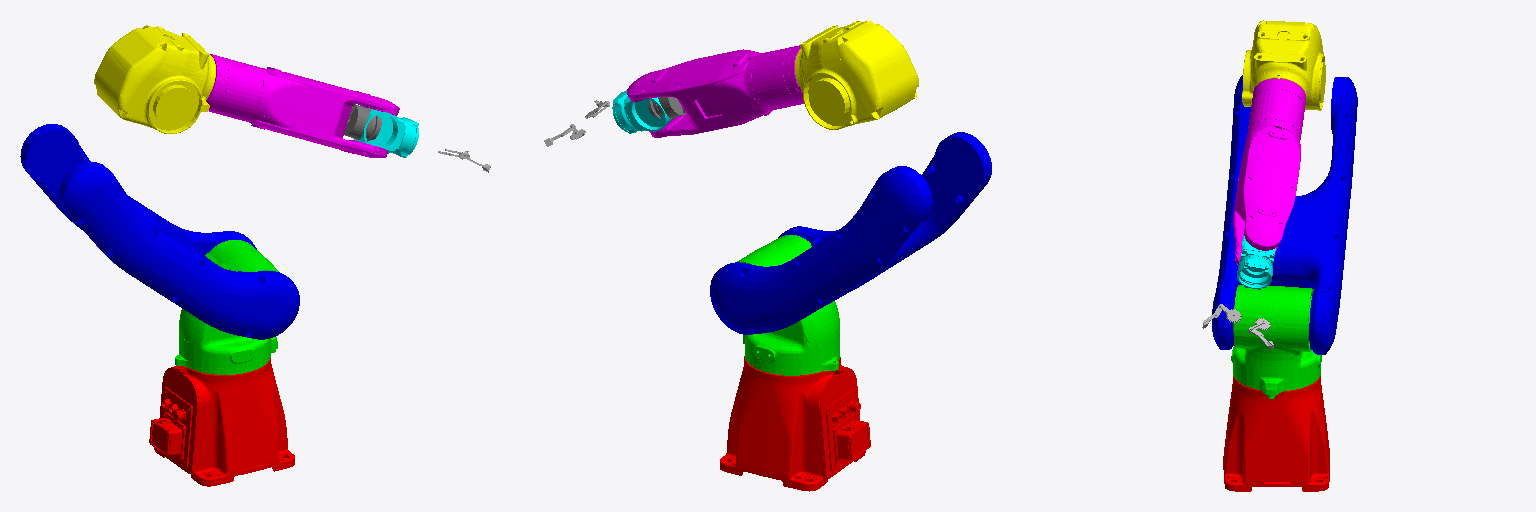
The robot description file, URDF, robot "gp7_robot":
<?xml version="1.0" encoding="utf-8"?>
<!-- This URDF was automatically created by SolidWorks to URDF Exporter! Originally created by [author] ([email redacted]) 
     Commit Version: 1.6.0-1-g15f4949  Build Version: 1.6.7594.29634
     For more information, please see http://wiki.ros.org/sw_urdf_exporter -->
<robot
  name="gp7_robot">
  <link
    name="base_link">
    <inertial>
      <origin
        xyz="-0.0061643 6.0941E-07 0.083158"
        rpy="0 0 0" />
      <mass
        value="5.2154" />
      <inertia
        ixx="0.026026"
        ixy="-2.5924E-05"
        ixz="0.00013984"
        iyy="0.025295"
        iyz="-4.7677E-05"
        izz="0.021721" />
    </inertial>
    <visual>
      <origin
        xyz="0 0 0"
        rpy="0 0 0" />
      <geometry>
        <mesh
          filename="package://gp7_robot/meshes/base_link.STL" />
      </geometry>
      <material
        name="">
        <color
          rgba="1 0 0 1" />
      </material>
    </visual>
    <collision>
      <origin
        xyz="0 0 0"
        rpy="0 0 0" />
      <geometry>
        <mesh
          filename="package://gp7_robot/meshes/base_link.STL" />
      </geometry>
    </collision>
  </link>
  <link
    name="link1">
    <inertial>
      <origin
        xyz="0.015549 -0.0019593 0.095449"
        rpy="0 0 0" />
      <mass
        value="2.9447" />
      <inertia
        ixx="0.011192"
        ixy="9.0245E-05"
        ixz="-0.0021643"
        iyy="0.011936"
        iyz="0.00025509"
        izz="0.0088687" />
    </inertial>
    <visual>
      <origin
        xyz="0 0 0"
        rpy="0 0 0" />
      <geometry>
        <mesh
          filename="package://gp7_robot/meshes/link1.STL" />
      </geometry>
      <material
        name="">
        <color
          rgba="0 1 0 1" />
      </material>
    </visual>
    <collision>
      <origin
        xyz="0 0 0"
        rpy="0 0 0" />
      <geometry>
        <mesh
          filename="package://gp7_robot/meshes/link1.STL" />
      </geometry>
    </collision>
  </link>
  <joint
    name="joint1"
    type="revolute">
    <origin
      xyz="-0.000595342695521883 0 0.1829"
      rpy="0 0 0" />
    <parent
      link="base_link" />
    <child
      link="link1" />
    <axis
      xyz="0 0 -1" />
    <limit
      lower="0"
      upper="0"
      effort="0"
      velocity="0" />
  </joint>
  <link
    name="link2">
    <inertial>
      <origin
        xyz="0.098772 0.17038 -0.071798"
        rpy="0 0 0" />
      <mass
        value="6.2405" />
      <inertia
        ixx="0.11256"
        ixy="-0.034136"
        ixz="-0.00014143"
        iyy="0.041497"
        iyz="-0.0004635"
        izz="0.11052" />
    </inertial>
    <visual>
      <origin
        xyz="0 0 0"
        rpy="0 0 0" />
      <geometry>
        <mesh
          filename="package://gp7_robot/meshes/link2.STL" />
      </geometry>
      <material
        name="">
        <color
          rgba="0 0 1 1" />
      </material>
    </visual>
    <collision>
      <origin
        xyz="0 0 0"
        rpy="0 0 0" />
      <geometry>
        <mesh
          filename="package://gp7_robot/meshes/link2.STL" />
      </geometry>
    </collision>
  </link>
  <joint
    name="joint2"
    type="revolute">
    <origin
      xyz="0.0481152180218847 0.0668500247537757 0.135500000000094"
      rpy="1.57079632679473 0 3.0248336337098" />
    <parent
      link="link1" />
    <child
      link="link2" />
    <axis
      xyz="0 0 -1" />
    <limit
      lower="0"
      upper="0"
      effort="0"
      velocity="0" />
  </joint>
  <link
    name="link3">
    <inertial>
      <origin
        xyz="-0.024876 0.006034 -0.072854"
        rpy="0 0 0" />
      <mass
        value="2.8492" />
      <inertia
        ixx="0.0078502"
        ixy="-0.0010799"
        ixz="4.7231E-05"
        iyy="0.0073158"
        iyz="-1.0093E-05"
        izz="0.0077915" />
    </inertial>
    <visual>
      <origin
        xyz="0 0 0"
        rpy="0 0 0" />
      <geometry>
        <mesh
          filename="package://gp7_robot/meshes/link3.STL" />
      </geometry>
      <material
        name="">
        <color
          rgba="1 1 0 1" />
      </material>
    </visual>
    <collision>
      <origin
        xyz="0 0 0"
        rpy="0 0 0" />
      <geometry>
        <mesh
          filename="package://gp7_robot/meshes/link3.STL" />
      </geometry>
    </collision>
  </link>
  <joint
    name="joint3"
    type="revolute">
    <origin
      xyz="0.166975951159858 0.412485189717141 0"
      rpy="0 0 -1.57079632679492" />
    <parent
      link="link2" />
    <child
      link="link3" />
    <axis
      xyz="0 0 -1" />
    <limit
      lower="0"
      upper="0"
      effort="0"
      velocity="0" />
  </joint>
  <link
    name="link4">
    <inertial>
      <origin
        xyz="0.00013611 0.0001738 0.16677"
        rpy="0 0 0" />
      <mass
        value="2.7554" />
      <inertia
        ixx="0.010092"
        ixy="-7.0814E-05"
        ixz="-3.5239E-05"
        iyy="0.010778"
        iyz="0.00031664"
        izz="0.0030859" />
    </inertial>
    <visual>
      <origin
        xyz="0 0 0"
        rpy="0 0 0" />
      <geometry>
        <mesh
          filename="package://gp7_robot/meshes/link4.STL" />
      </geometry>
      <material
        name="">
        <color
          rgba="1 0 1 1" />
      </material>
    </visual>
    <collision>
      <origin
        xyz="0 0 0"
        rpy="0 0 0" />
      <geometry>
        <mesh
          filename="package://gp7_robot/meshes/link4.STL" />
      </geometry>
    </collision>
  </link>
  <joint
    name="joint4"
    type="revolute">
    <origin
      xyz="-0.00319297470642954 -0.0884918352576554 -0.0720000000000005"
      rpy="-1.57079632679483 -0.272786020633957 -2.70896107573833" />
    <parent
      link="link3" />
    <child
      link="link4" />
    <axis
      xyz="0 0 -1" />
    <limit
      lower="0"
      upper="0"
      effort="0"
      velocity="0" />
  </joint>
  <link
    name="link5">
    <inertial>
      <origin
        xyz="0.0002539 0.01321 -0.015248"
        rpy="0 0 0" />
      <mass
        value="0.24589" />
      <inertia
        ixx="0.00013953"
        ixy="-2.1178E-06"
        ixz="1.9621E-07"
        iyy="0.00015684"
        iyz="-1.2921E-06"
        izz="0.00018562" />
    </inertial>
    <visual>
      <origin
        xyz="0 0 0"
        rpy="0 0 0" />
      <geometry>
        <mesh
          filename="package://gp7_robot/meshes/link5.STL" />
      </geometry>
      <material
        name="">
        <color
          rgba="0 1 1 1" />
      </material>
    </visual>
    <collision>
      <origin
        xyz="0 0 0"
        rpy="0 0 0" />
      <geometry>
        <mesh
          filename="package://gp7_robot/meshes/link5.STL" />
      </geometry>
    </collision>
  </link>
  <joint
    name="joint5"
    type="revolute">
    <origin
      xyz="-0.00132428368504911 0.0134348901237163 0.361000000001776"
      rpy="1.57079632679489 0.0421986683723227 -3.04333955815242" />
    <parent
      link="link4" />
    <child
      link="link5" />
    <axis
      xyz="0 0 -1" />
    <limit
      lower="0"
      upper="0"
      effort="0"
      velocity="0" />
  </joint>
  <link
    name="EE">
    <inertial>
      <origin
        xyz="-0.0017106 -0.0011481 0.049992"
        rpy="0 0 0" />
      <mass
        value="0.12078" />
      <inertia
        ixx="3.8972E-05"
        ixy="-2.7372E-06"
        ixz="-2.0092E-06"
        iyy="4.0598E-05"
        iyz="-1.6891E-06"
        izz="4.5899E-05" />
    </inertial>
    <visual>
      <origin
        xyz="0 0 0"
        rpy="0 0 0" />
      <geometry>
        <mesh
          filename="package://gp7_robot/meshes/EE.STL" />
      </geometry>
      <material
        name="">
        <color
          rgba="0.5 0.5 0.5 1" />
      </material>
    </visual>
    <collision>
      <origin
        xyz="0 0 0"
        rpy="0 0 0" />
      <geometry>
        <mesh
          filename="package://gp7_robot/meshes/EE.STL" />
      </geometry>
    </collision>
  </link>
  <joint
    name="joint6"
    type="revolute">
    <origin
      xyz="0 0.0674999999997865 -0.0134999999999023"
      rpy="1.57079632697687 1.39265583816902 -3.14159265335474" />
    <parent
      link="link5" />
    <child
      link="EE" />
    <axis
      xyz="0 0 1" />
    <limit
      lower="0"
      upper="0"
      effort="0"
      velocity="0" />
  </joint>
  <link
    name="finger1_link">
    <inertial>
      <origin
        xyz="0.031263 0.014596 -0.0078605"
        rpy="0 0 0" />
      <mass
        value="0.02604" />
      <inertia
        ixx="2.5439E-06"
        ixy="-1.1266E-06"
        ixz="-6.8261E-08"
        iyy="2.8012E-06"
        iyz="-4.5124E-08"
        izz="4.2421E-06" />
    </inertial>
    <visual>
      <origin
        xyz="0 0 0"
        rpy="0 0 0" />
      <geometry>
        <mesh
          filename="package://gp7_robot/meshes/finger1_link.STL" />
      </geometry>
      <material
        name="">
        <color
          rgba="0.7 0.7 0.7 1" />
      </material>
    </visual>
    <collision>
      <origin
        xyz="0 0 0"
        rpy="0 0 0" />
      <geometry>
        <mesh
          filename="package://gp7_robot/meshes/finger1_link.STL" />
      </geometry>
    </collision>
  </link>
  <joint
    name="finger1_joint"
    type="revolute">
    <origin
      xyz="-0.0263403229325416 0.0119878501740266 0.10858504415831"
      rpy="1.51758990402072 -0.923956186840669 3.09700319298282" />
    <parent
      link="EE" />
    <child
      link="finger1_link" />
    <axis
      xyz="0.0401317925325461 0 -0.999194395114446" />
    <limit
      lower="0"
      upper="0"
      effort="0"
      velocity="0" />
  </joint>
  <link
    name="finger2_link">
    <inertial>
      <origin
        xyz="0.03126316097536 0.0145959898986218 -0.00786055175129607"
        rpy="0 0 0" />
      <mass
        value="0.026039744934362" />
      <inertia
        ixx="2.54389423014904E-06"
        ixy="-1.12657879997966E-06"
        ixz="-6.82537613153167E-08"
        iyy="2.80119081923284E-06"
        iyz="-4.51192607329772E-08"
        izz="4.24211851430805E-06" />
    </inertial>
    <visual>
      <origin
        xyz="0 0 0"
        rpy="0 0 0" />
      <geometry>
        <mesh
          filename="package://gp7_robot/meshes/finger2_link.STL" />
      </geometry>
      <material
        name="">
        <color
          rgba="0.752941176470588 0.752941176470588 0.752941176470588 1" />
      </material>
    </visual>
    <collision>
      <origin
        xyz="0 0 0"
        rpy="0 0 0" />
      <geometry>
        <mesh
          filename="package://gp7_robot/meshes/finger2_link.STL" />
      </geometry>
    </collision>
  </link>
  <joint
    name="finger2_joint"
    type="revolute">
    <origin
      xyz="0.025677 -0.01335 0.10859"
      rpy="1.5176 -0.92396 -0.096949" />
    <parent
      link="EE" />
    <child
      link="finger2_link" />
    <axis
      xyz="0.040132 0 -0.99919" />
    <limit
      lower="0"
      upper="0"
      effort="0"
      velocity="0" />
  </joint>
</robot>

--- What the picture shows (computed from the rendered views, not written in the file) ---
The picture shows the robot from 3 angles, left to right: view 1: azimuth 30°, elevation 25°; view 2: azimuth 150°, elevation 25°; view 3: azimuth 270°, elevation 25°; orthographic projection.
Model gp7_robot with 9 links and 8 joints (8 revolute), rooted at base_link, posed every joint at zero.
Visible links, largest first — view 1: link2, base_link, link3, link4, link1, link5, EE; view 2: link2, base_link, link3, link4, link1, link5, EE; view 3: link2, base_link, link4, link1, link3, link5.
Link boxes in pixels (<box>): link2: <box>20,124,299,339</box>; base_link: <box>149,357,294,486</box>; link3: <box>94,25,215,133</box>; link4: <box>206,54,399,157</box>; link1: <box>175,240,278,374</box>; link5: <box>353,106,418,157</box>; EE: <box>344,104,381,141</box>; link2: <box>710,132,991,334</box>; base_link: <box>720,356,870,491</box>; link3: <box>795,21,918,129</box>; link4: <box>627,45,803,137</box>; link1: <box>737,235,839,375</box>; link5: <box>612,90,673,133</box>; EE: <box>648,97,685,119</box>; link2: <box>1212,75,1357,354</box>; base_link: <box>1223,375,1329,491</box>; link4: <box>1233,78,1305,265</box>; link1: <box>1231,285,1321,398</box>; link3: <box>1242,20,1325,110</box>; link5: <box>1237,229,1275,289</box>.
Size in the robot's own frame: 0.8612 by 0.29 by 0.8544 metres.
Meshes: 9 distinct files referenced, 9 mesh visuals loaded (9 binary STL).